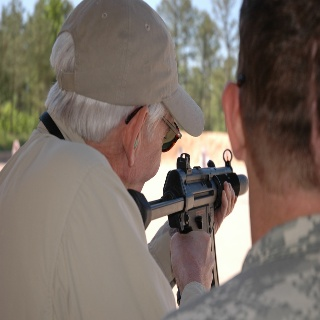rifle: (127, 148, 250, 290)
